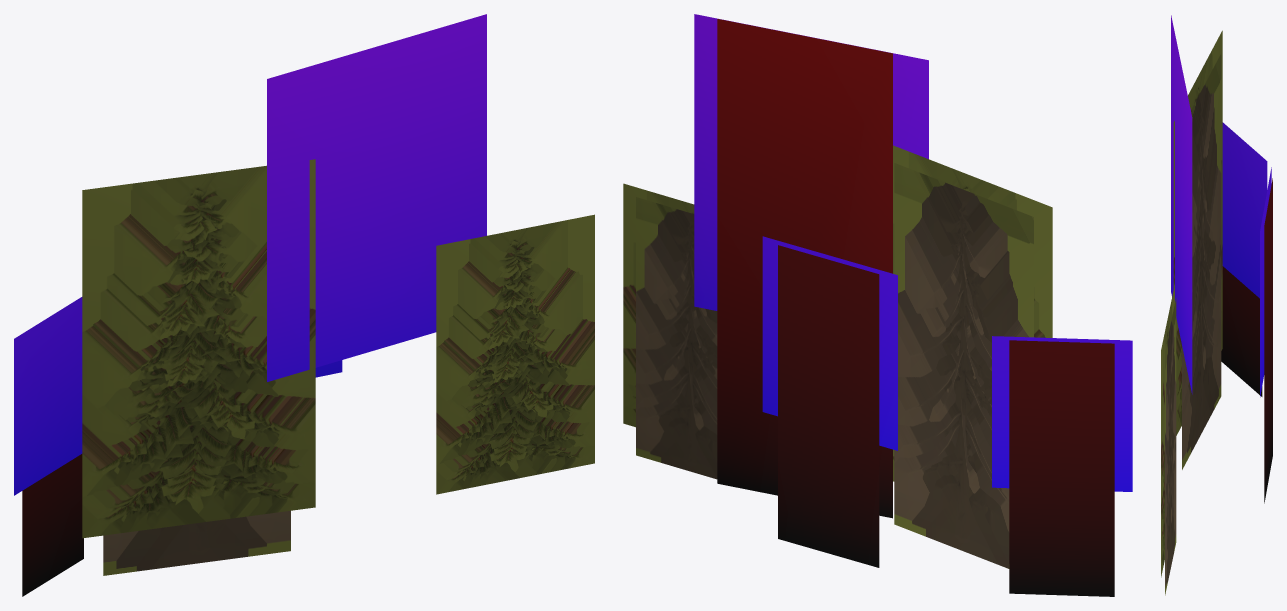
The model's file is SM_Env_Background_Trees_02.fbx.
3 renders of one model, left to right at view 1: azimuth 30°, elevation 25°; view 2: azimuth 150°, elevation 25°; view 3: azimuth 270°, elevation 25°, orthographic. The views are drawn at different scales.
Visible parts, largest first — view 1: SM_Env_Background_Trees_02; view 2: SM_Env_Background_Trees_02; view 3: SM_Env_Background_Trees_02.
Part boxes in pixels (x1,y1,x2,y2): SM_Env_Background_Trees_02: (14, 14, 594, 596); SM_Env_Background_Trees_02: (623, 14, 1132, 596); SM_Env_Background_Trees_02: (1161, 15, 1272, 595).
Size of the model in its own units: 1896 by 1597 by 362.
